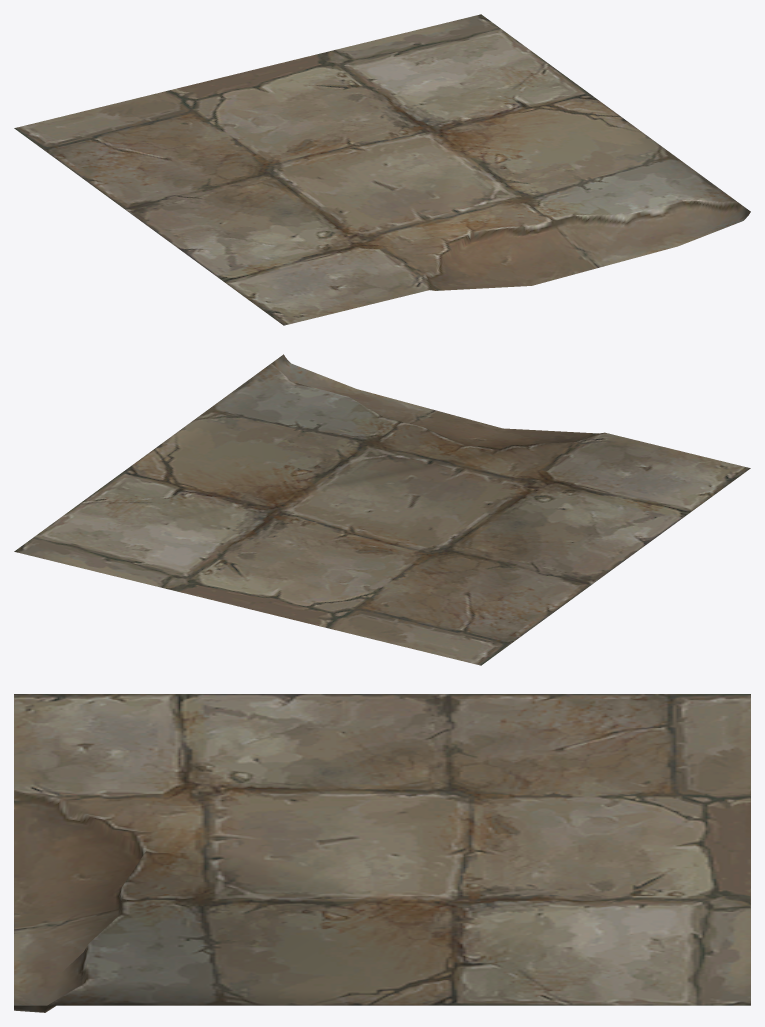
The model's file is nashgar_bottom_base4_ruins_b.FBX.
3 renders of one model, top to bottom at view 1: azimuth 30°, elevation 25°; view 2: azimuth 150°, elevation 25°; view 3: azimuth 270°, elevation 25°, orthographic. The views are drawn at different scales.
Parts seen in each view (by area): view 1: nashgar_bottom_base4_ruins_b; view 2: nashgar_bottom_base4_ruins_b; view 3: nashgar_bottom_base4_ruins_b.
Boxes of the visible parts, x1,y1,x2,y2 form: nashgar_bottom_base4_ruins_b: (14, 14, 750, 325); nashgar_bottom_base4_ruins_b: (14, 354, 750, 665); nashgar_bottom_base4_ruins_b: (14, 694, 750, 1012).
Bounding box in the file's own units: 4 × 0.1697 × 4.
